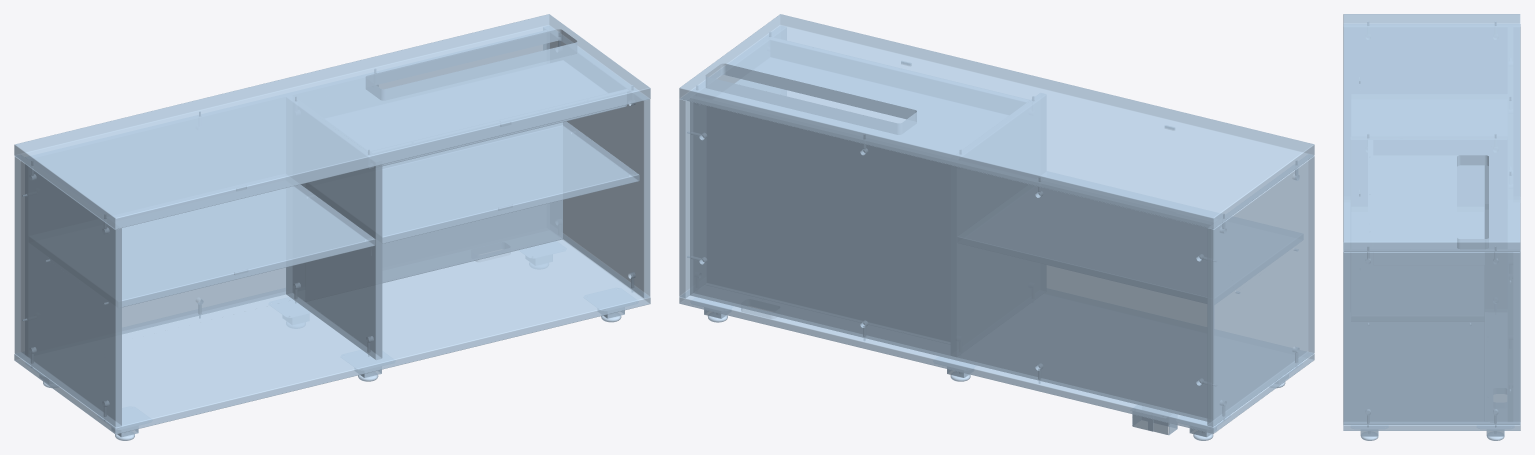
The model's file is LKAL190000_IZ_150.glb.
3 views of the same model, side by side, from view 1: azimuth 30°, elevation 25°; view 2: azimuth 150°, elevation 25°; view 3: azimuth 270°, elevation 25° (orthographic). The views are drawn at different scales.
Visible parts, largest first — view 1: 4 (×4), 51; view 2: 4 (×4), 51, 45; view 3: 4 (×4), 51.
Part boxes in pixels (x1,y1,x2,y2): 4 (×4): (14, 14, 650, 434); 51: (370, 89, 628, 283); 4 (×4): (679, 14, 1314, 433); 51: (733, 37, 1028, 132); 45: (1131, 408, 1177, 435); 4 (×4): (1343, 14, 1520, 430); 51: (1368, 140, 1484, 252).
Bounding box in the file's own units: 1.53 × 0.643 × 0.5.
